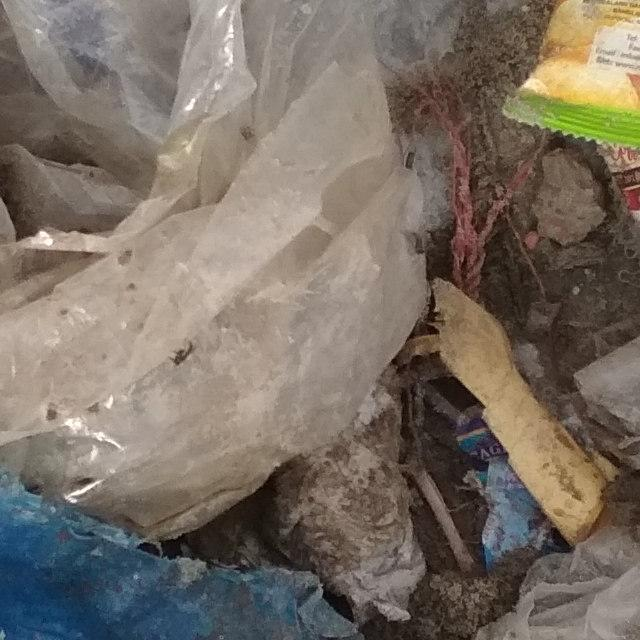plastic: (0, 0, 475, 551)
